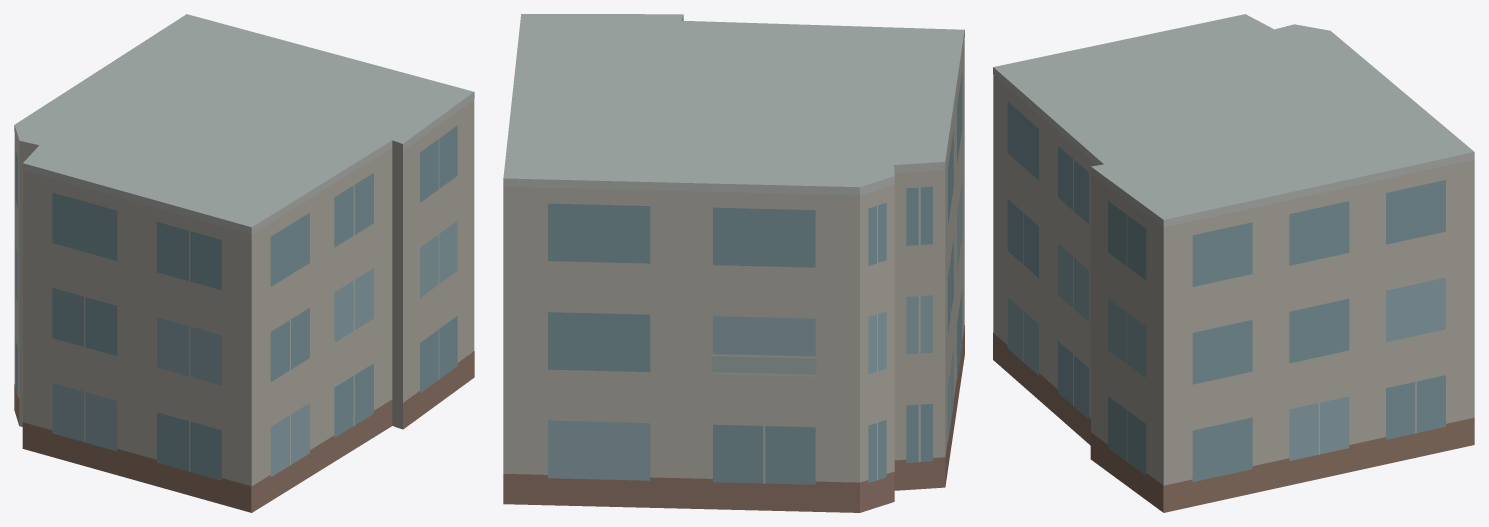
The model's file is survey-upis-32837185.glb.
3 renders of one model, left to right at view 1: azimuth 30°, elevation 25°; view 2: azimuth 150°, elevation 25°; view 3: azimuth 270°, elevation 25°, orthographic. The views are drawn at different scales.
Visible parts, largest first — view 1: survey-upis-32837185.tmp; view 2: survey-upis-32837185.tmp; view 3: survey-upis-32837185.tmp.
Part boxes in pixels (x1=…): survey-upis-32837185.tmp: x1=14, y1=14, x2=474, y2=512; survey-upis-32837185.tmp: x1=503, y1=14, x2=964, y2=512; survey-upis-32837185.tmp: x1=993, y1=14, x2=1474, y2=512.
Bounding box in the file's own units: 14.49 × 9.6 × 14.31.
